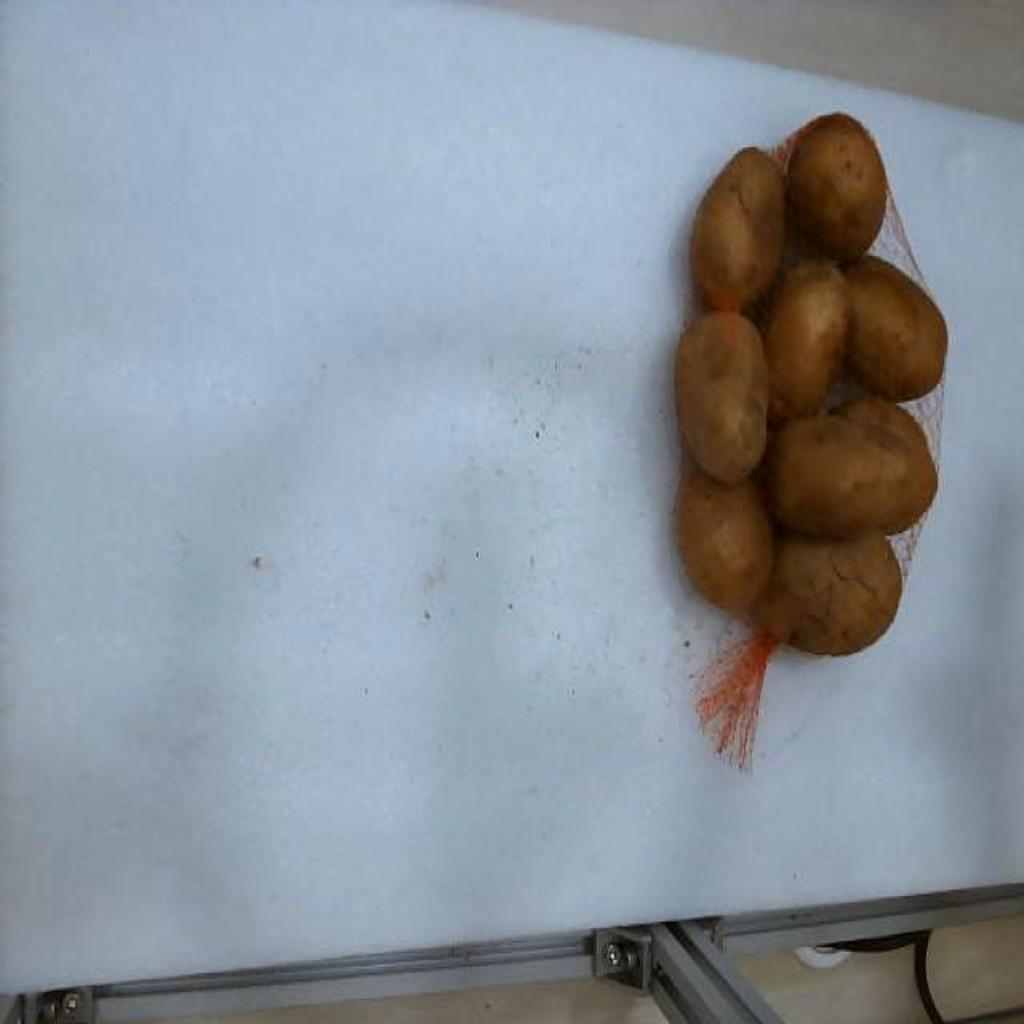potato: (766, 397, 938, 535), (754, 531, 902, 655), (676, 312, 770, 484), (690, 147, 786, 311), (845, 256, 948, 401), (788, 112, 888, 260), (676, 472, 772, 609), (764, 261, 846, 417)
